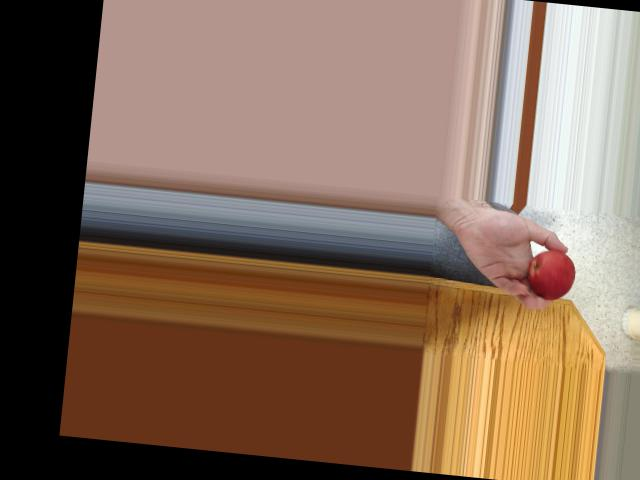apple: (521, 245, 577, 302)
